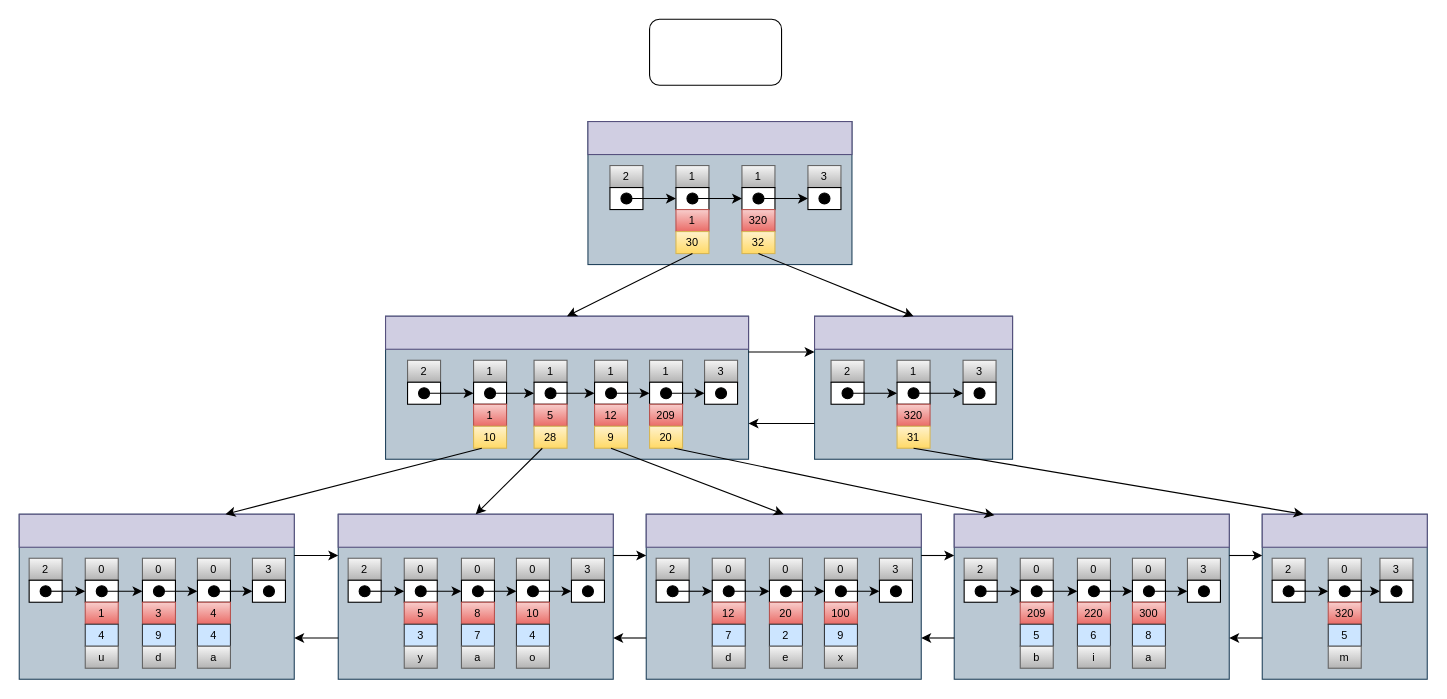
This 1447x699 diagram has some shape labels left out. The shapes that lost their labels are listed below. From the top down, each one's box as (x1, y1, x2, y2) in pixels, then its label:
(648, 18, 782, 85): 聚簇索引
(587, 120, 852, 155): 页33
(384, 315, 749, 349): 页30
(813, 315, 1013, 349): 页32
(18, 513, 294, 547): 页10
(337, 513, 613, 547): 页28
(645, 513, 921, 547): 页9
(953, 513, 1229, 547): 页20
(1261, 513, 1427, 547): 页31
